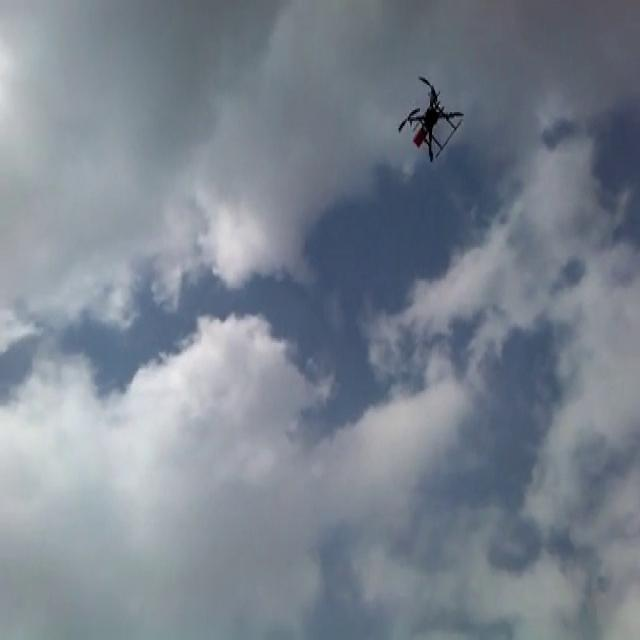drone: (395, 73, 464, 165)
